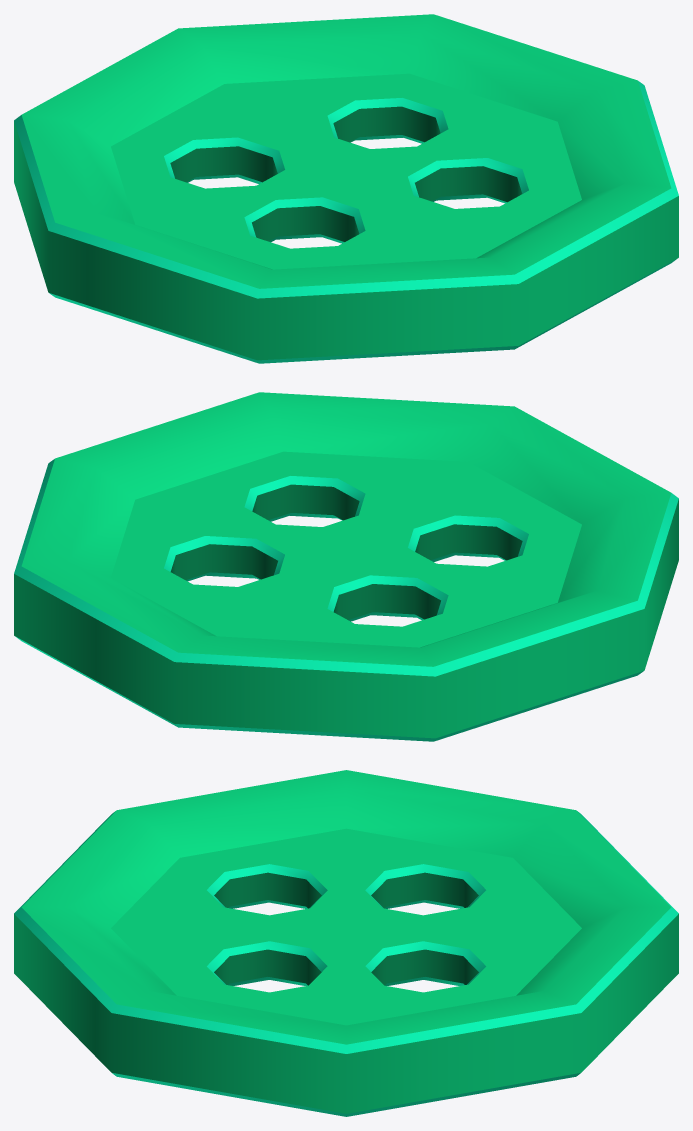
Rendered from Button.fbx.
3 views of the same model, one above another, from view 1: azimuth 30°, elevation 25°; view 2: azimuth 150°, elevation 25°; view 3: azimuth 270°, elevation 25° (orthographic). The views are drawn at different scales.
Parts seen in each view (by area): view 1: Button; view 2: Button; view 3: Button.
Part boxes in pixels (x1=…): Button: x1=14, y1=14, x2=678, y2=363; Button: x1=14, y1=392, x2=678, y2=741; Button: x1=14, y1=770, x2=678, y2=1116.
Bounding box in the file's own units: 0.8741 × 0.1049 × 0.8741.
